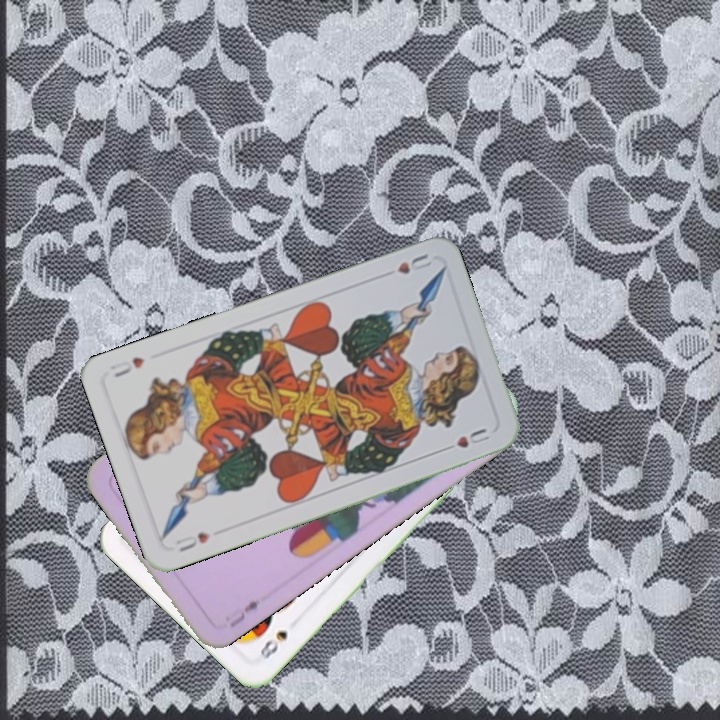EU: (225, 595, 263, 631)
HU: (171, 528, 214, 555), (393, 250, 434, 277)
S8: (255, 626, 291, 662)
